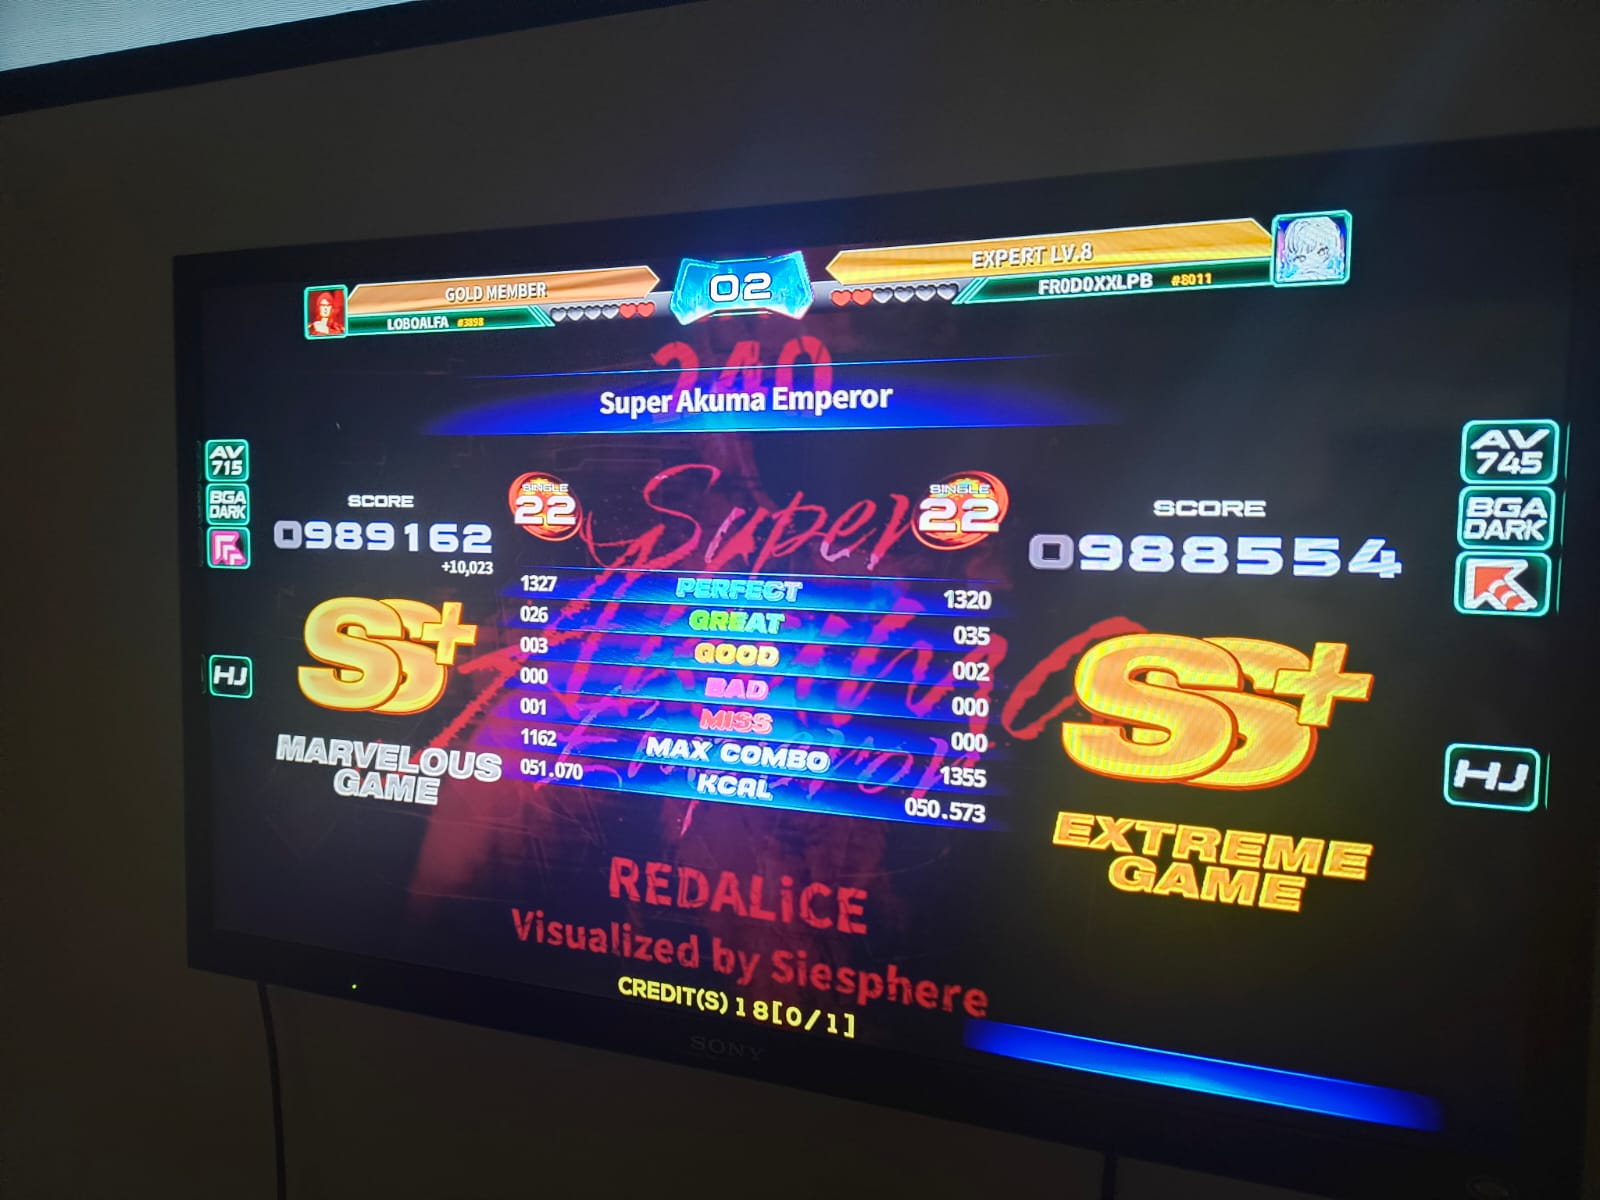difficulty: (898, 473, 1012, 537)
fullscore: (574, 169, 1600, 1141)
rank: (1029, 584, 1323, 794)
score: (1043, 461, 1463, 592)
song_name: (505, 368, 1044, 424)
